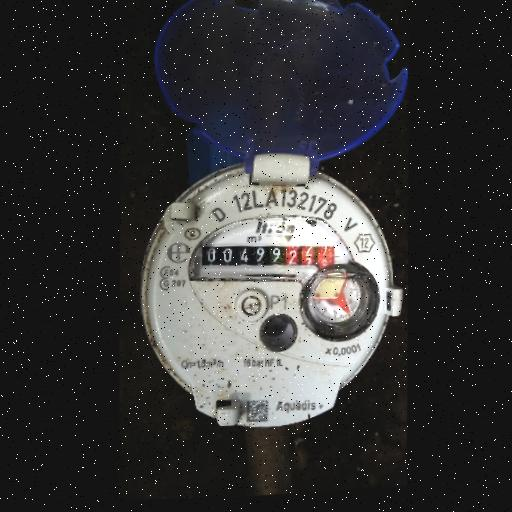0: (204, 245, 219, 266), (220, 244, 235, 265)
2: (284, 245, 299, 265), (300, 246, 315, 266)
4: (236, 246, 251, 266)
9: (315, 243, 335, 271), (252, 245, 267, 266), (268, 245, 283, 266)
border_water_meter_number: (200, 236, 335, 280)
